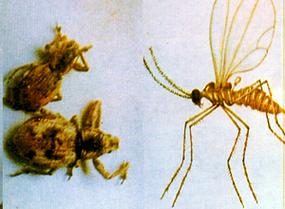Cecidomyiidae: (142, 1, 285, 207)
